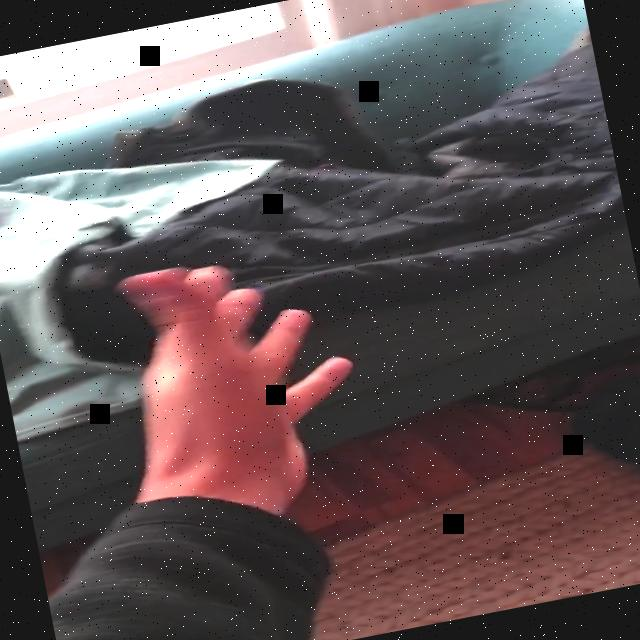Paper: (104, 241, 372, 518)
